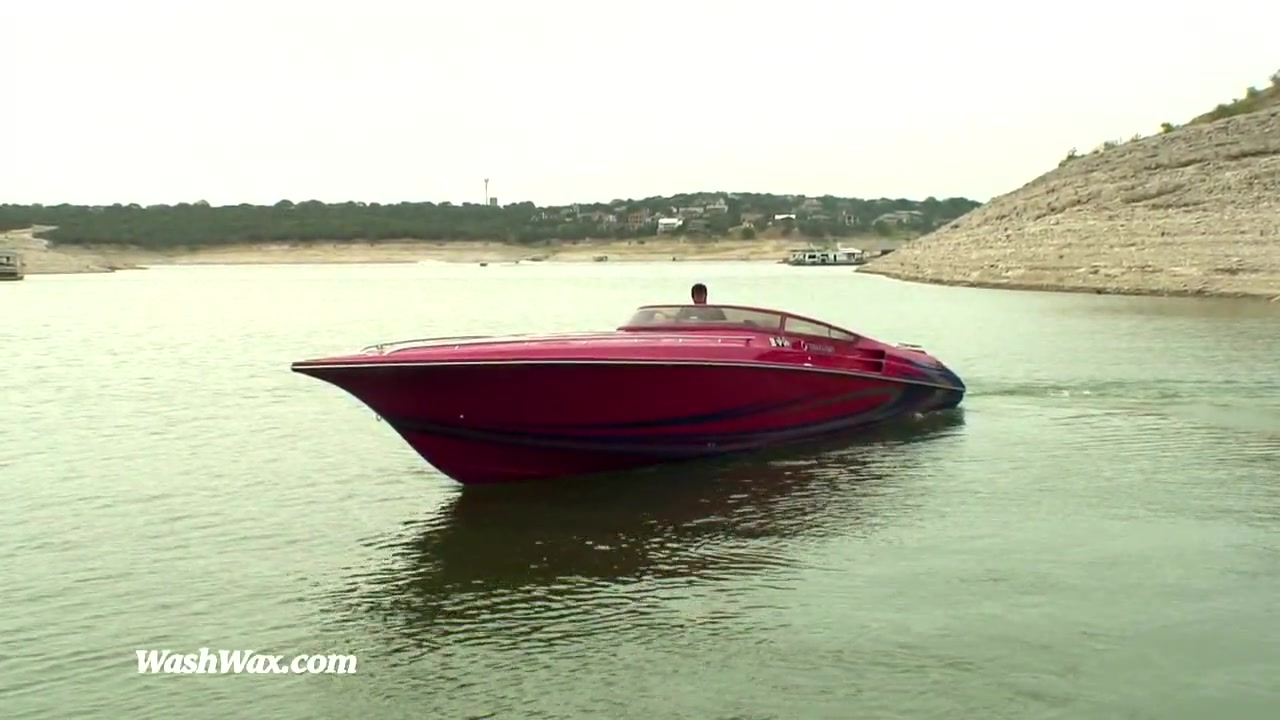boat: (288, 302, 967, 486)
